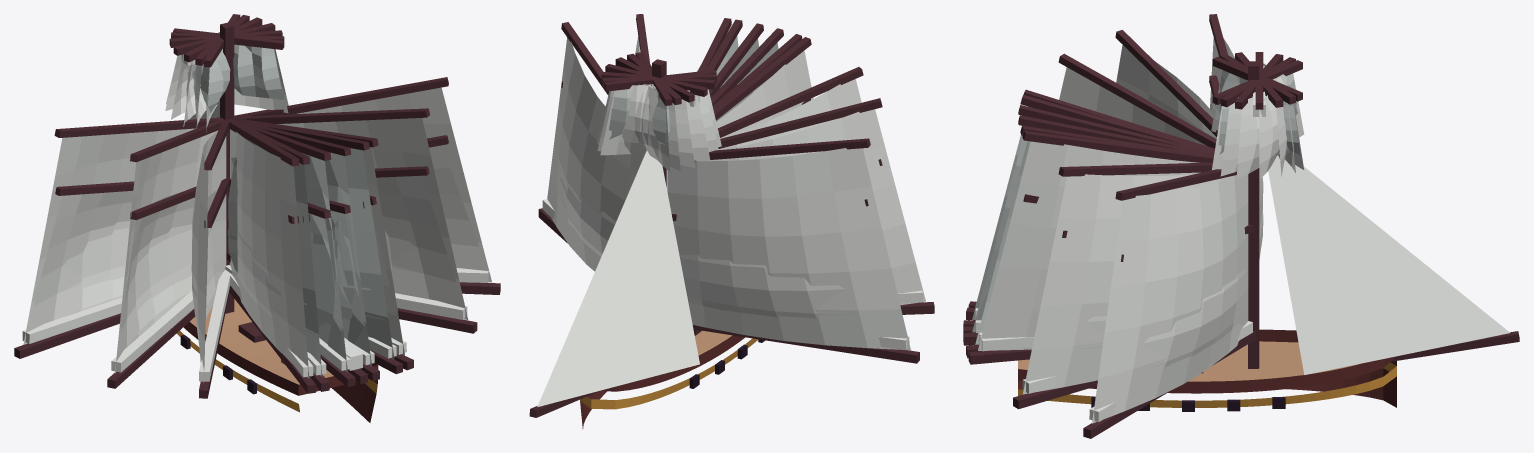
The model's file is ship.war_sloop.glb.
3 views of the same model, side by side, from view 1: azimuth 30°, elevation 25°; view 2: azimuth 150°, elevation 25°; view 3: azimuth 270°, elevation 25° (orthographic). The views are drawn at different scales.
Parts seen in each view (by area): view 1: full_close_s_main, full_run_main, full_broad_s_main, half_run_main, half_beam_p_main, full_beam_p_main, full_irons_p1_main, full_beam_s_main, hull, half_broad_s_main, full_broad_p_main, full_irons_s0_main (+47 smaller); view 2: full_run_main, full_run_jib, full_broad_p_main, half_run_main, full_broad_s_main, full_close_s_main, full_beam_s_main, hull, half_broad_p_main, full_broad_s_gaff, full_beam_s_gaff, full_run_gaff (+25 smaller); view 3: full_broad_p_jib, full_broad_p_main, full_beam_p_main, full_close_p_main, hull, half_broad_p_main, bulwark, full_beam_s_main, full_broad_s_main, mast, full_beam_s_gaff, full_close_p_gaff (+25 smaller).
Part boxes in pixels (<box>): full_close_s_main: <box>230,129,309,378</box>; full_run_main: <box>23,128,195,344</box>; full_broad_s_main: <box>114,130,218,374</box>; half_run_main: <box>27,190,133,331</box>; half_beam_p_main: <box>376,175,464,307</box>; full_beam_p_main: <box>277,118,468,319</box>; full_irons_p1_main: <box>334,148,394,359</box>; full_beam_s_main: <box>191,131,226,383</box>; hull: <box>177,299,377,422</box>; half_broad_s_main: <box>116,192,194,360</box>; full_broad_p_main: <box>297,87,492,282</box>; full_irons_s0_main: <box>302,153,347,372</box>; full_run_main: <box>667,148,910,350</box>; full_run_jib: <box>537,150,699,406</box>; full_broad_p_main: <box>547,37,644,271</box>; half_run_main: <box>679,255,854,318</box>; full_broad_s_main: <box>697,109,925,305</box>; full_close_s_main: <box>666,50,813,189</box>; full_beam_s_main: <box>667,79,861,191</box>; hull: <box>580,330,758,429</box>; half_broad_p_main: <box>559,178,615,256</box>; full_broad_s_gaff: <box>718,98,882,148</box>; full_beam_s_gaff: <box>718,67,863,137</box>; full_run_gaff: <box>694,138,870,161</box>; full_broad_p_jib: <box>1268,155,1509,374</box>; full_broad_p_main: <box>1092,174,1248,423</box>; full_beam_p_main: <box>1022,174,1234,394</box>; full_close_p_main: <box>978,141,1200,350</box>; hull: <box>1018,341,1396,407</box>; half_broad_p_main: <box>1135,269,1248,371</box>; bulwark: <box>1018,329,1394,393</box>; full_beam_s_main: <box>1059,67,1207,146</box>; full_broad_s_main: <box>1116,45,1216,138</box>; mast: <box>1248,61,1259,368</box>; full_beam_s_gaff: <box>1058,53,1216,148</box>; full_close_p_gaff: <box>1022,130,1213,162</box>.
Bounding box in the file's own units: 2.81 × 2.02 × 2.96.
